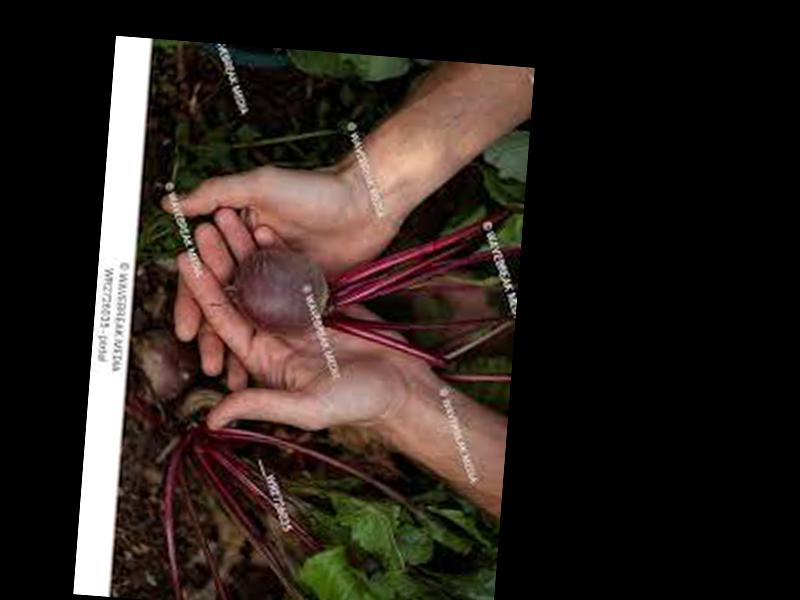Beet: (218, 183, 515, 373)
